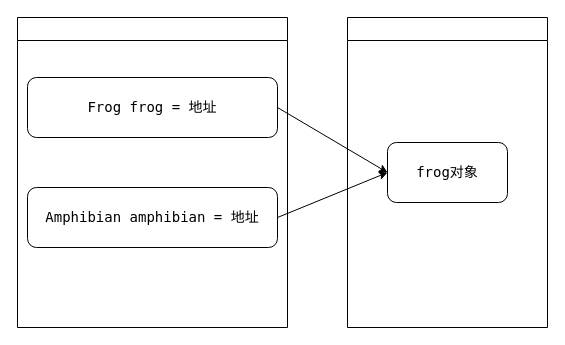
The diagram is 565 pixels wide and 345 high, and some of its shapes have lost their labels. The shapes that lost their labels are listed below. From the top down, each one's box as (x1, y1, x2, y2) in pixels, then its label:
(16, 16, 288, 328): Stack
(346, 16, 548, 328): Heap
